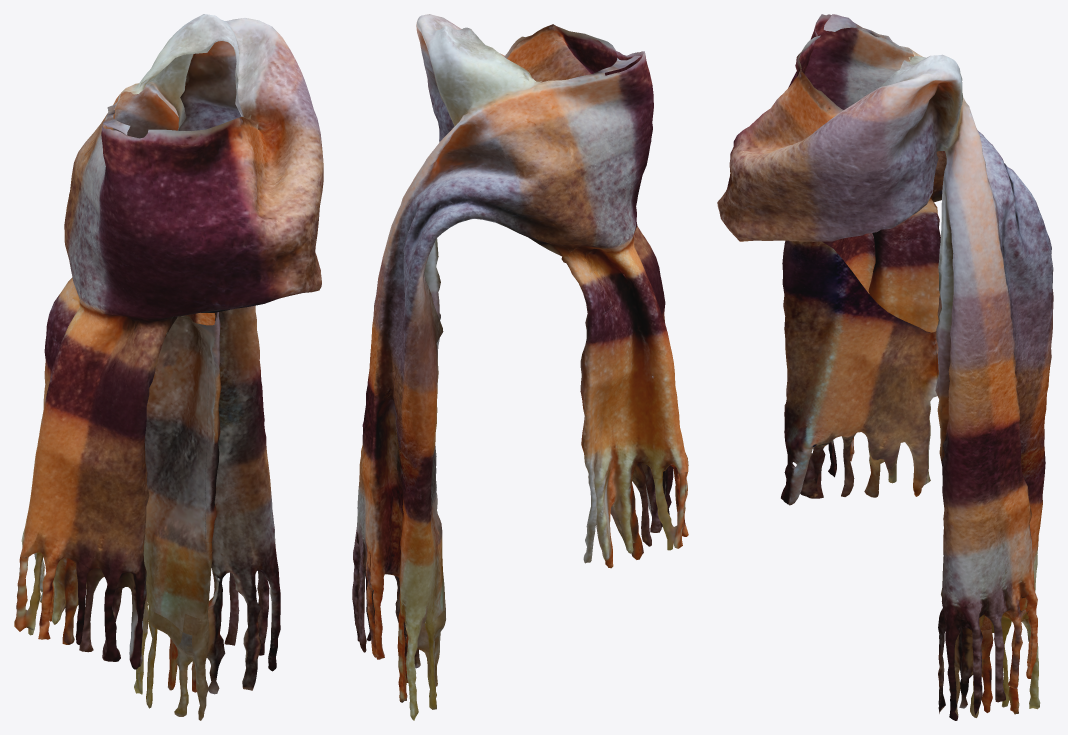
File: scarf3d.glb
The picture shows the model from 3 angles, left to right: view 1: azimuth 30°, elevation 25°; view 2: azimuth 150°, elevation 25°; view 3: azimuth 270°, elevation 25°; orthographic projection. The views are drawn at different scales.
Visible parts, largest first — view 1: Object_2; view 2: Object_2; view 3: Object_2.
Part boxes in pixels (x1,y1,x2,y2): Object_2: (14, 14, 323, 720); Object_2: (352, 14, 688, 720); Object_2: (717, 14, 1053, 720).
Size of the model in its own units: 24.34 by 54.03 by 24.72.
Materials: 1 (1 with a texture image).
